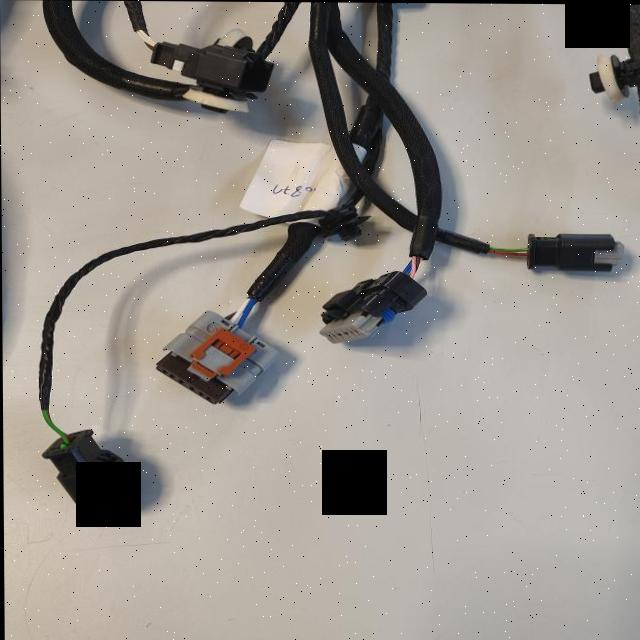clip: (589, 54, 633, 100), (182, 87, 248, 112), (319, 208, 366, 240)
connector: (155, 311, 273, 403), (320, 260, 426, 342), (42, 430, 136, 512), (151, 35, 272, 93), (527, 229, 618, 271)
label: (240, 140, 348, 217)
